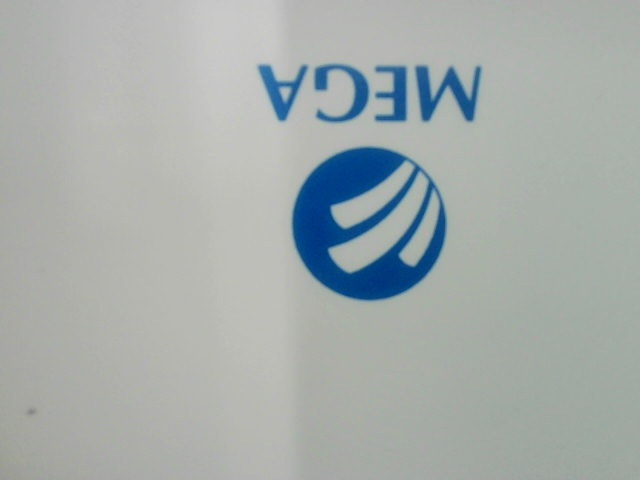AM_ZTEMEGA: (238, 49, 530, 316)
